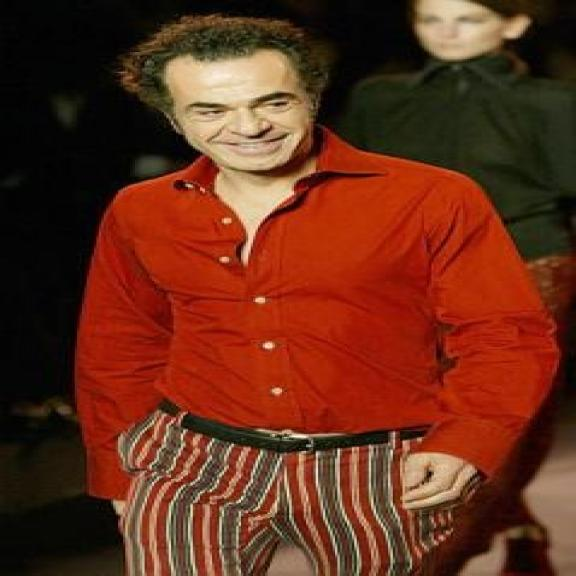face: (158, 58, 340, 174), (407, 5, 529, 62)
